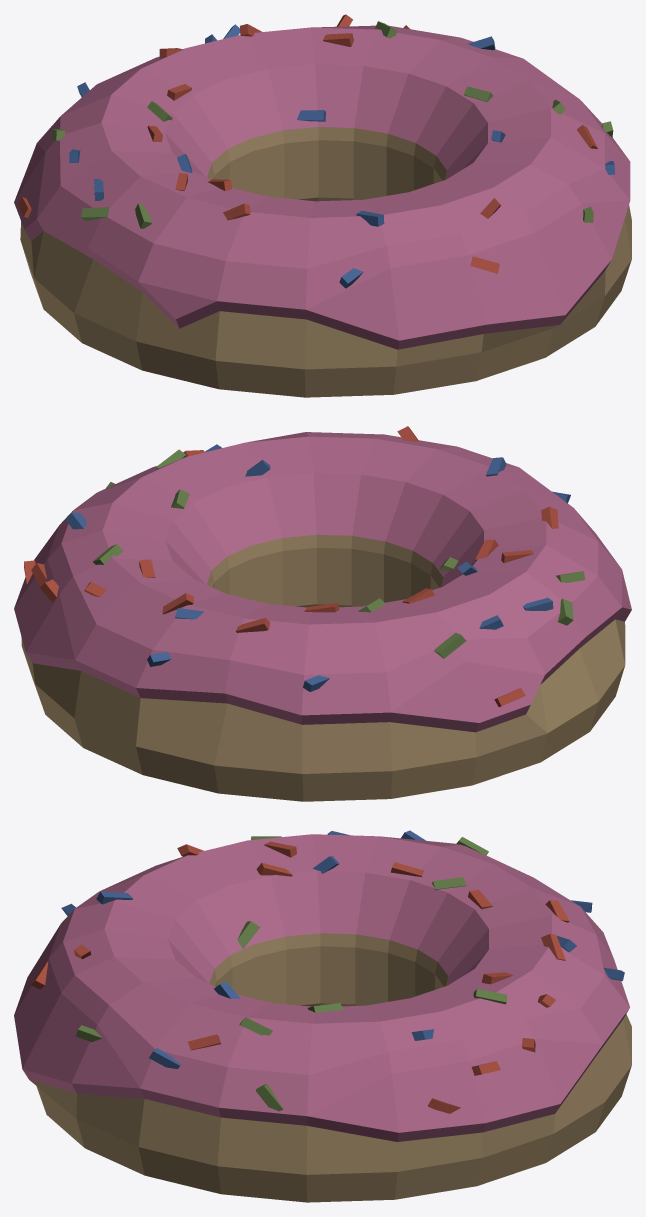
File: Donut.glb
3 views of the same model, one above another, from view 1: azimuth 30°, elevation 25°; view 2: azimuth 150°, elevation 25°; view 3: azimuth 270°, elevation 25° (orthographic).
Parts seen in each view (by area): view 1: Donut1.001; view 2: Donut1.001; view 3: Donut1.001.
Part boxes in pixels (x1,y1,x2,y2): Donut1.001: [14, 14, 631, 397]; Donut1.001: [14, 426, 631, 801]; Donut1.001: [14, 830, 631, 1202].
Size of the model in its own units: 0.8591 by 0.2914 by 0.8698.
